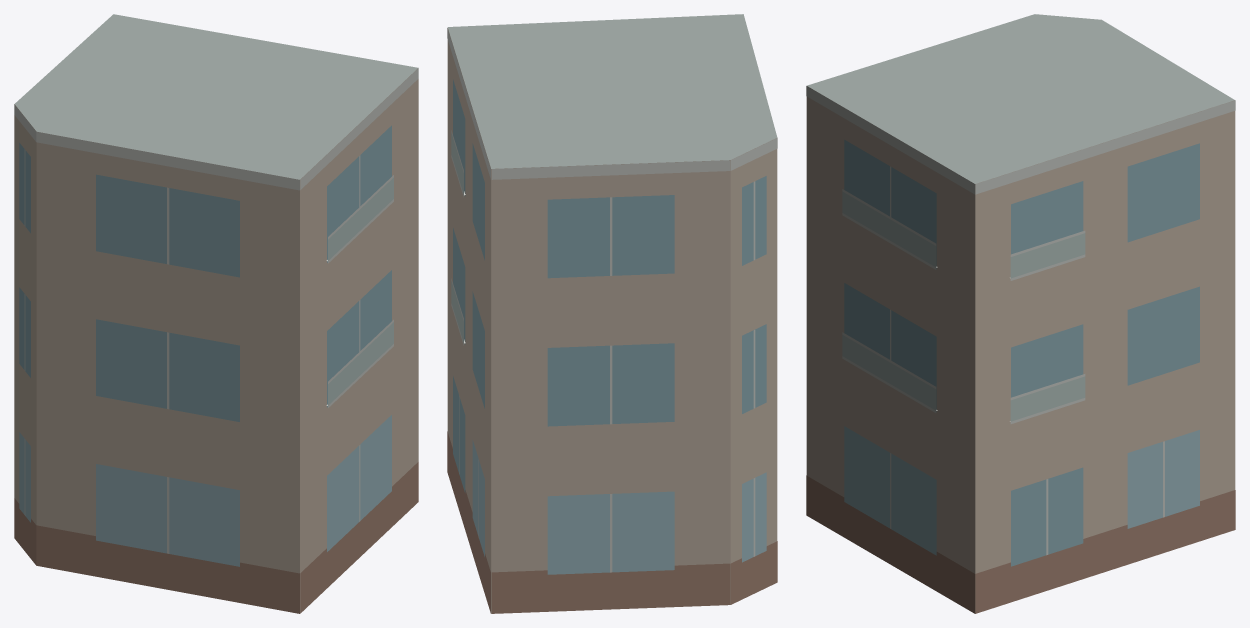
File: survey-upis-32972018.glb
3 views of the same model, side by side, from view 1: azimuth 30°, elevation 25°; view 2: azimuth 150°, elevation 25°; view 3: azimuth 270°, elevation 25° (orthographic). The views are drawn at different scales.
Parts seen in each view (by area): view 1: survey-upis-32972018.tmp; view 2: survey-upis-32972018.tmp; view 3: survey-upis-32972018.tmp.
Part boxes in pixels (x1,y1,x2,y2): survey-upis-32972018.tmp: [14, 14, 418, 613]; survey-upis-32972018.tmp: [447, 14, 777, 613]; survey-upis-32972018.tmp: [806, 14, 1235, 613].
Bounding box in the file's own units: 8.41 × 9.9 × 8.96.
